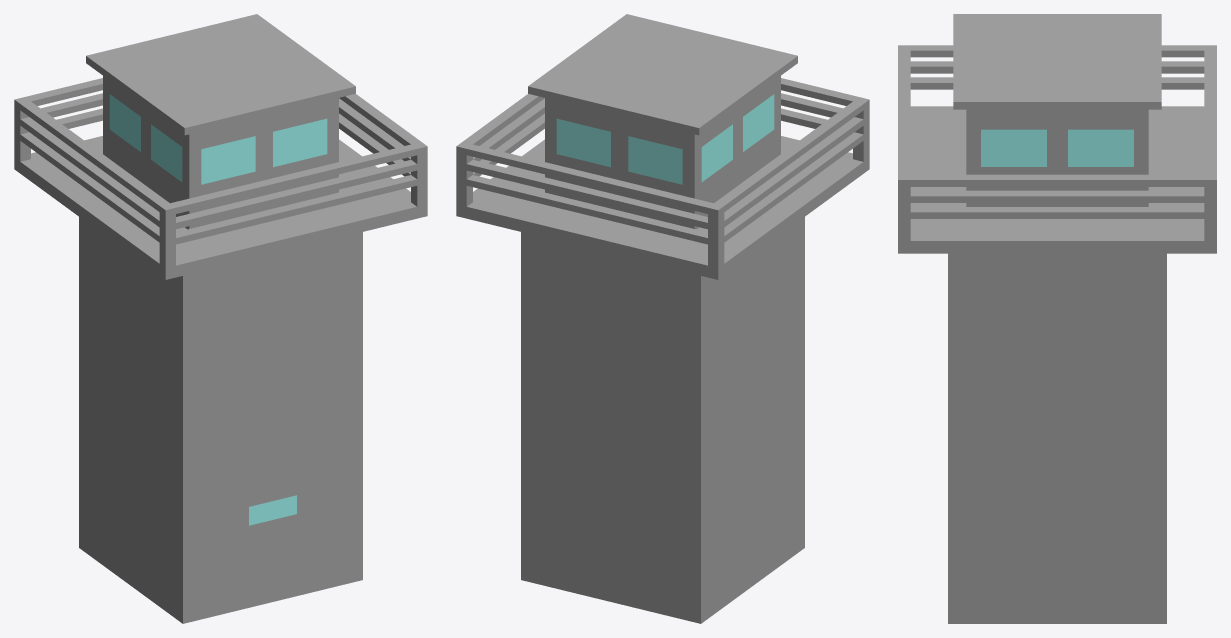
File: torre de control.fbx
3 renders of one model, left to right at view 1: azimuth 30°, elevation 25°; view 2: azimuth 150°, elevation 25°; view 3: azimuth 270°, elevation 25°, orthographic. The views are drawn at different scales.
Visible parts, largest first — view 1: torre de control; view 2: torre de control; view 3: torre de control.
Boxes of the visible parts, bbox=[...] form: torre de control: bbox=[14, 14, 427, 623]; torre de control: bbox=[456, 14, 869, 623]; torre de control: bbox=[898, 14, 1216, 623].
Size of the model in its own units: 728 by 1309 by 728.
